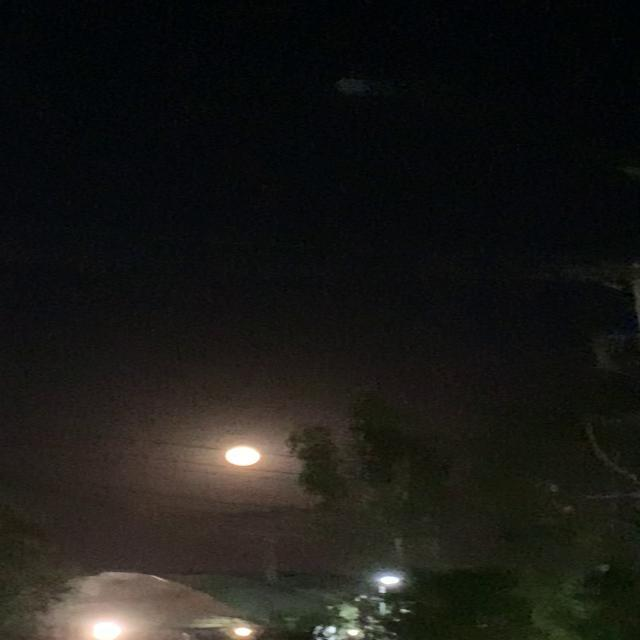moon: (232, 444, 274, 468)
